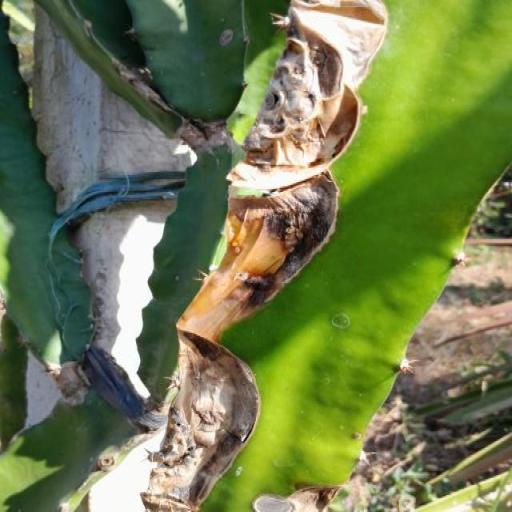stemcanker: (346, 410, 363, 450), (234, 462, 248, 490)
